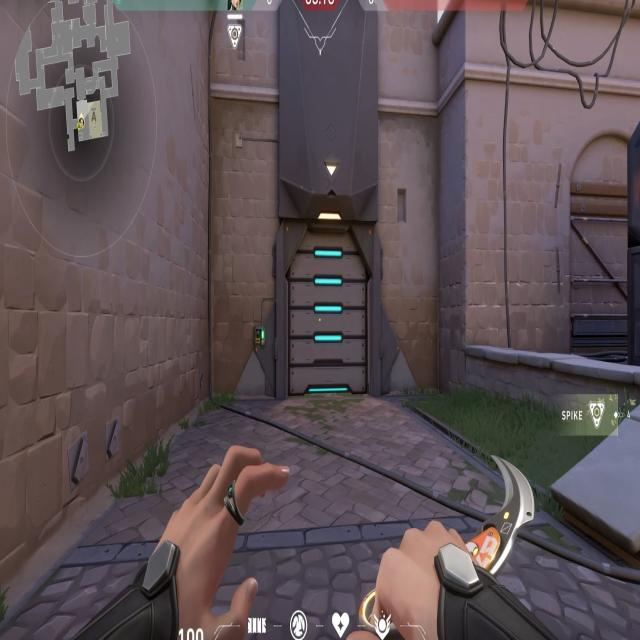A_Door: (278, 202, 383, 407)
